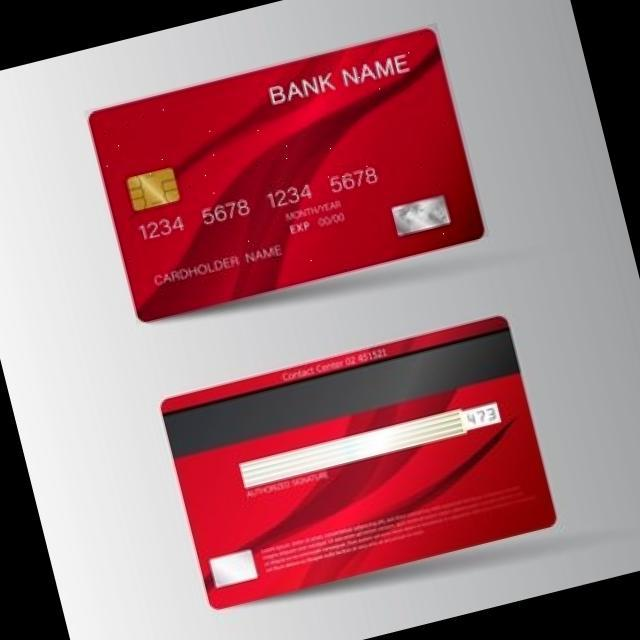payment_card: (86, 23, 486, 322), (158, 313, 557, 610)
